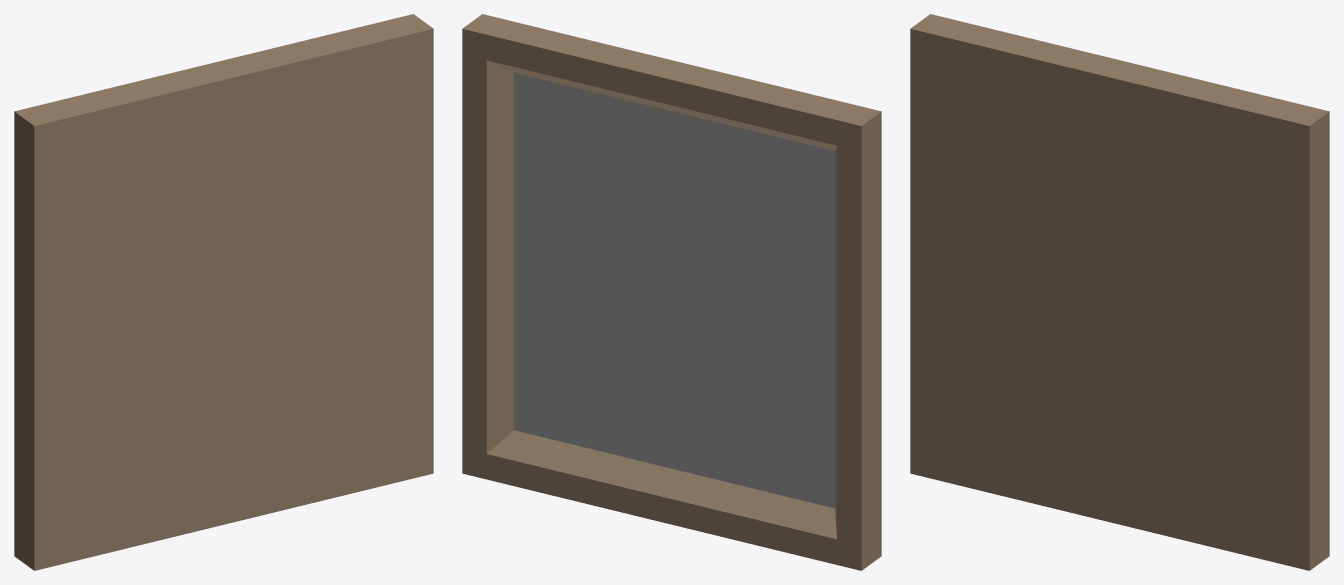
File: pic_3.fbx
3 renders of one model, left to right at view 1: azimuth 30°, elevation 25°; view 2: azimuth 150°, elevation 25°; view 3: azimuth 330°, elevation 25°, orthographic.
Parts seen in each view (by area): view 1: pic_3; view 2: pic_3; view 3: pic_3.
Part boxes in pixels (x1,y1,x2,y2): pic_3: (14, 14, 433, 570); pic_3: (462, 14, 881, 570); pic_3: (910, 14, 1329, 570).
Bounding box in the file's own units: 67.02 × 71.36 × 5.86.
